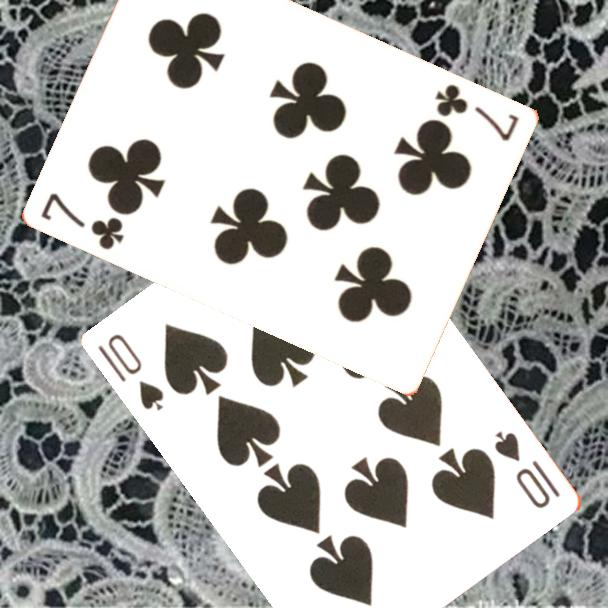c07: (431, 80, 522, 144), (38, 189, 128, 253)
s10: (94, 330, 168, 414), (491, 427, 564, 512)
